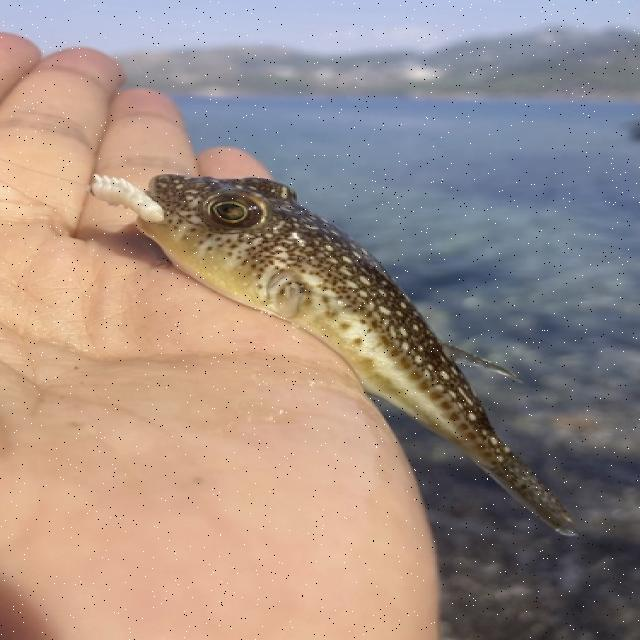Balik: (93, 175, 575, 535)
